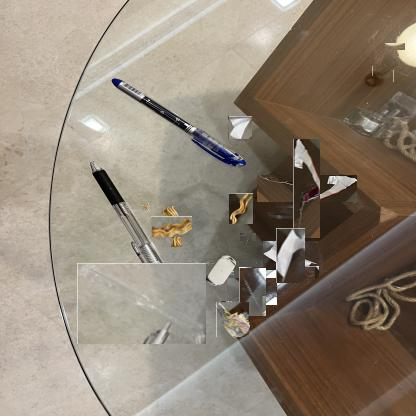dirty: (77, 263, 206, 344), (275, 157, 339, 220), (270, 234, 312, 276), (216, 301, 249, 337), (156, 211, 187, 242), (229, 193, 253, 224), (228, 116, 252, 139), (142, 203, 150, 211)
mark: (233, 272, 272, 311), (393, 70, 416, 82), (304, 266, 319, 280), (388, 40, 402, 54), (242, 231, 254, 243), (374, 355, 388, 365), (372, 66, 383, 76)
